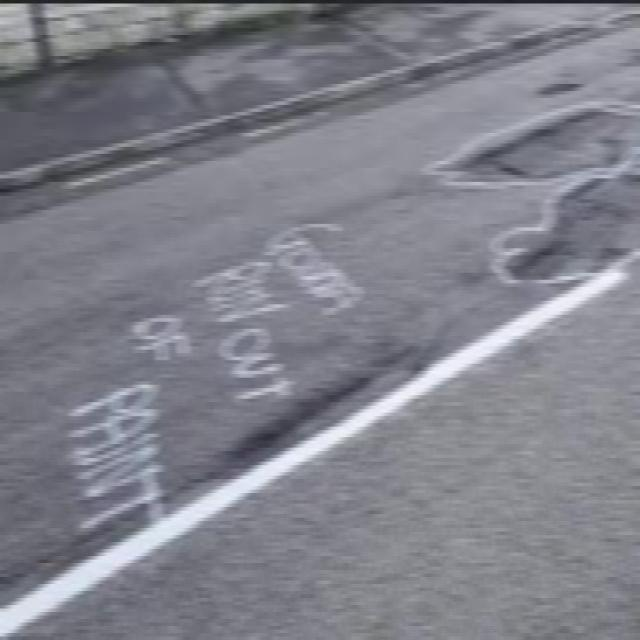Pothole: (461, 98, 640, 198), (494, 170, 640, 288)
